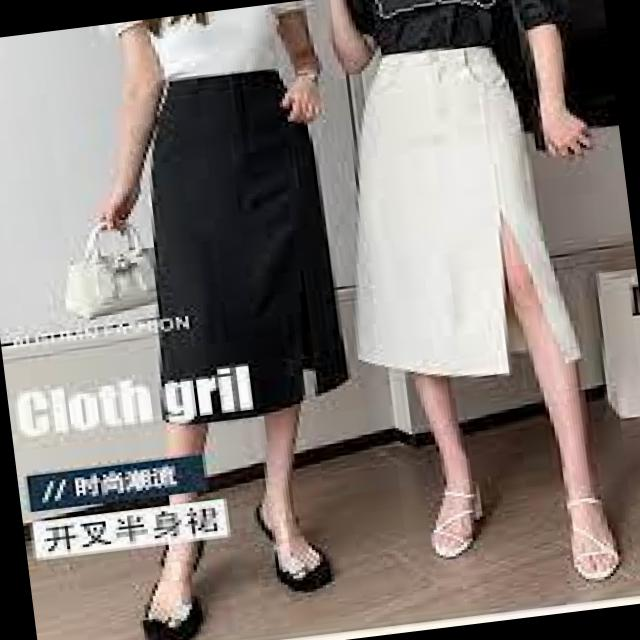skirt: (94, 59, 364, 448), (316, 31, 570, 388)
